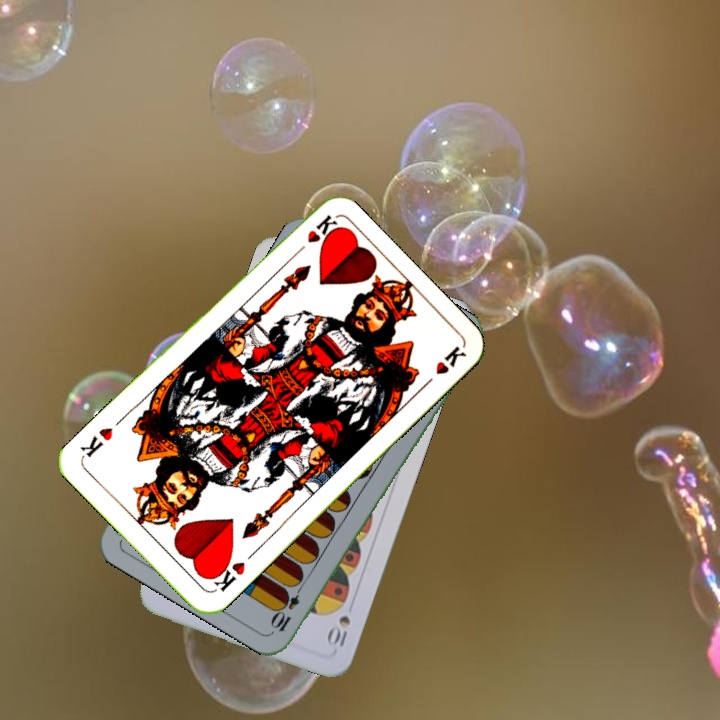E10: (268, 578, 307, 635)
HK: (289, 211, 340, 260), (206, 554, 248, 595)
S10: (323, 611, 353, 650)
